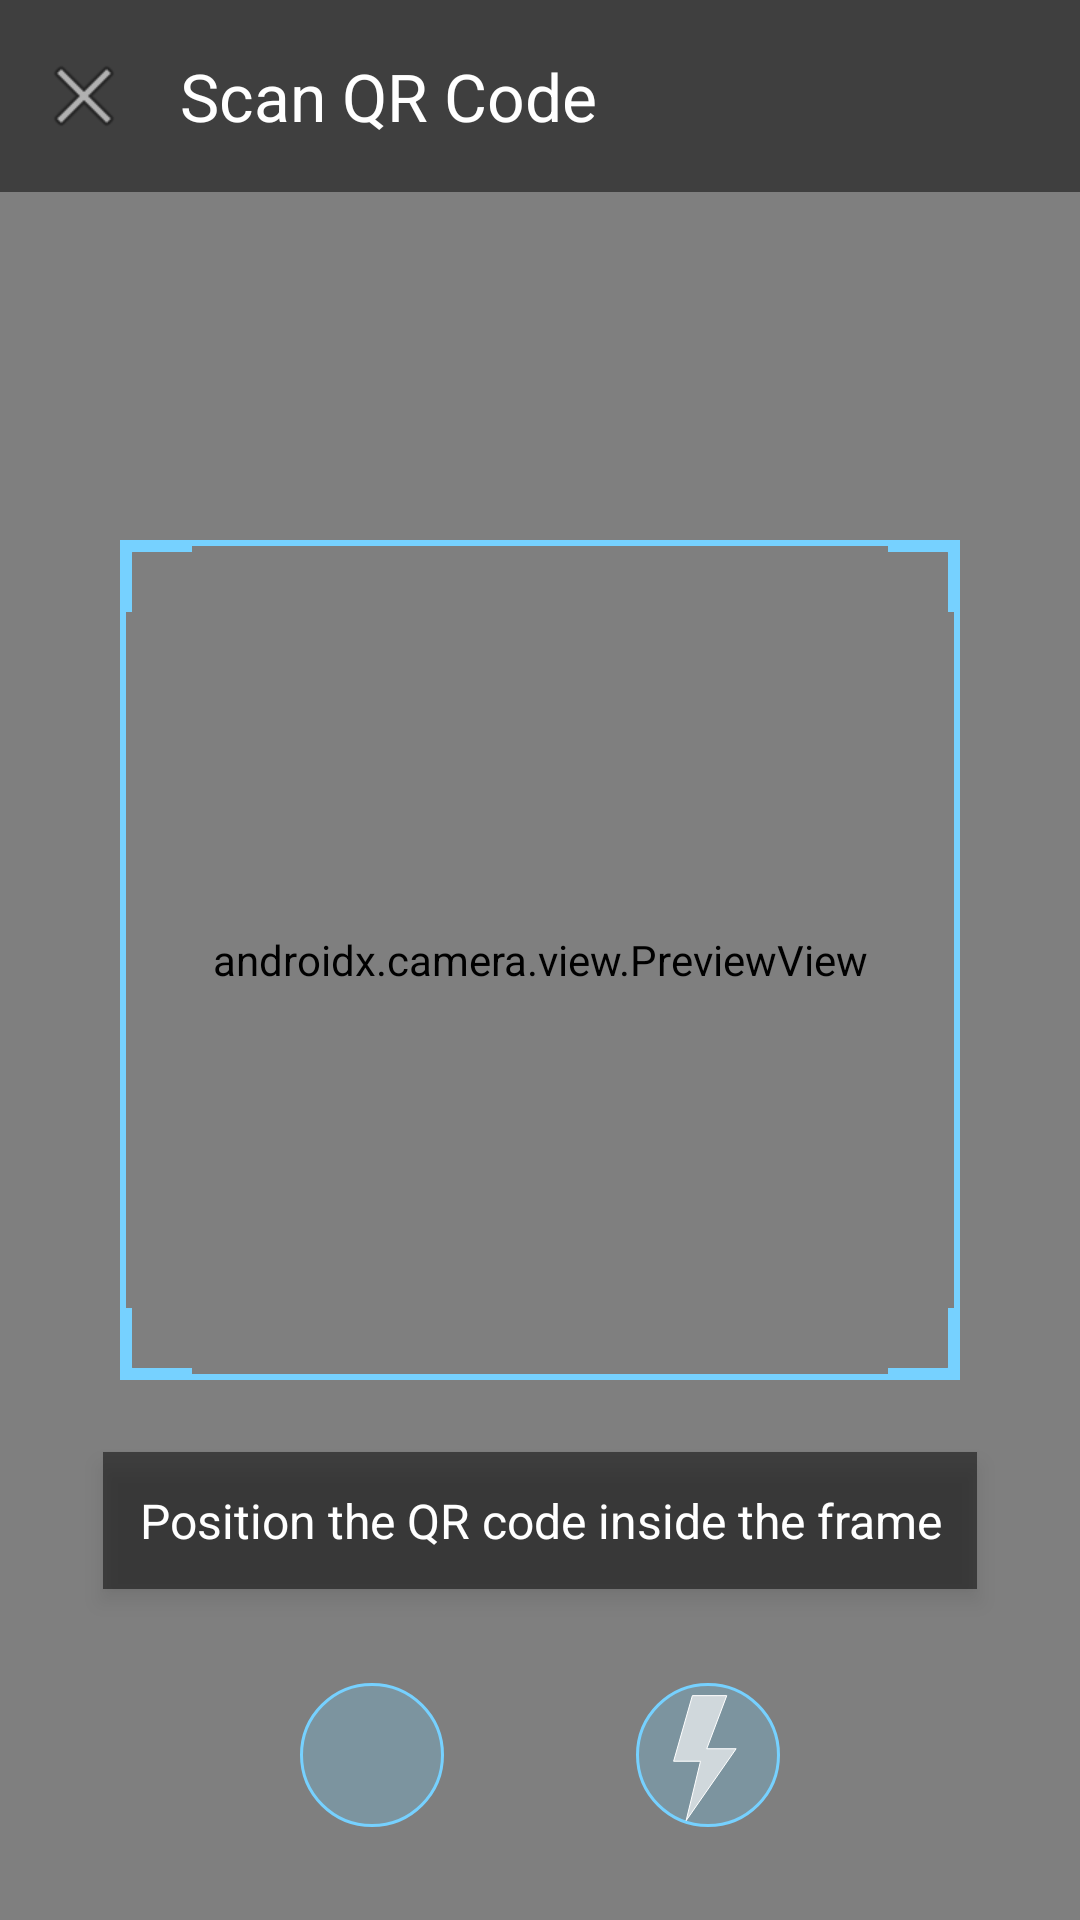

Named icons in this screenshot (1080 × 1920) and their centers, [x,y]:
Toggle flashlight: [708,1755]
